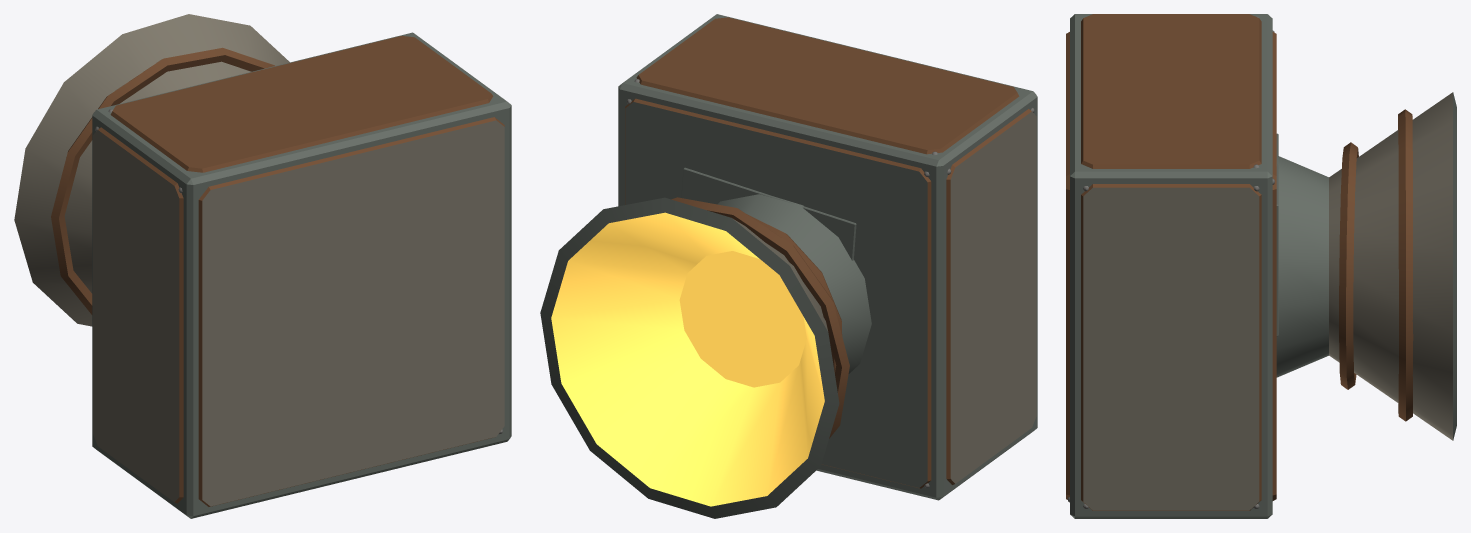
The model's file is R4X_Booster.fbx.
3 views of the same model, side by side, from view 1: azimuth 30°, elevation 25°; view 2: azimuth 150°, elevation 25°; view 3: azimuth 270°, elevation 25° (orthographic). The views are drawn at different scales.
Parts seen in each view (by area): view 1: R4X_Booster_Body; view 2: R4X_Booster_Body; view 3: R4X_Booster_Body.
Boxes of the visible parts, <box> form: R4X_Booster_Body: <box>14,14,511,518</box>; R4X_Booster_Body: <box>540,14,1037,518</box>; R4X_Booster_Body: <box>1066,14,1456,518</box>.
Size of the model in its own units: 0.52 by 0.52 by 0.52.
